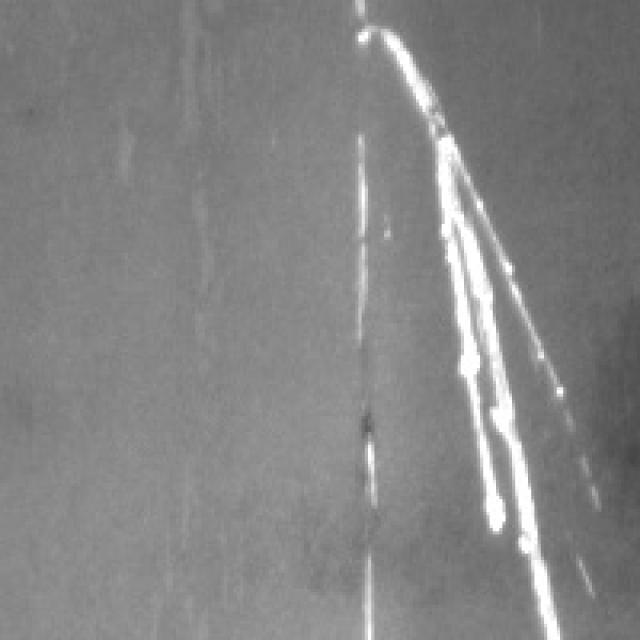inclusion: (170, 0, 237, 147)
scratches: (381, 7, 589, 630), (348, 410, 394, 634), (346, 125, 387, 349)
